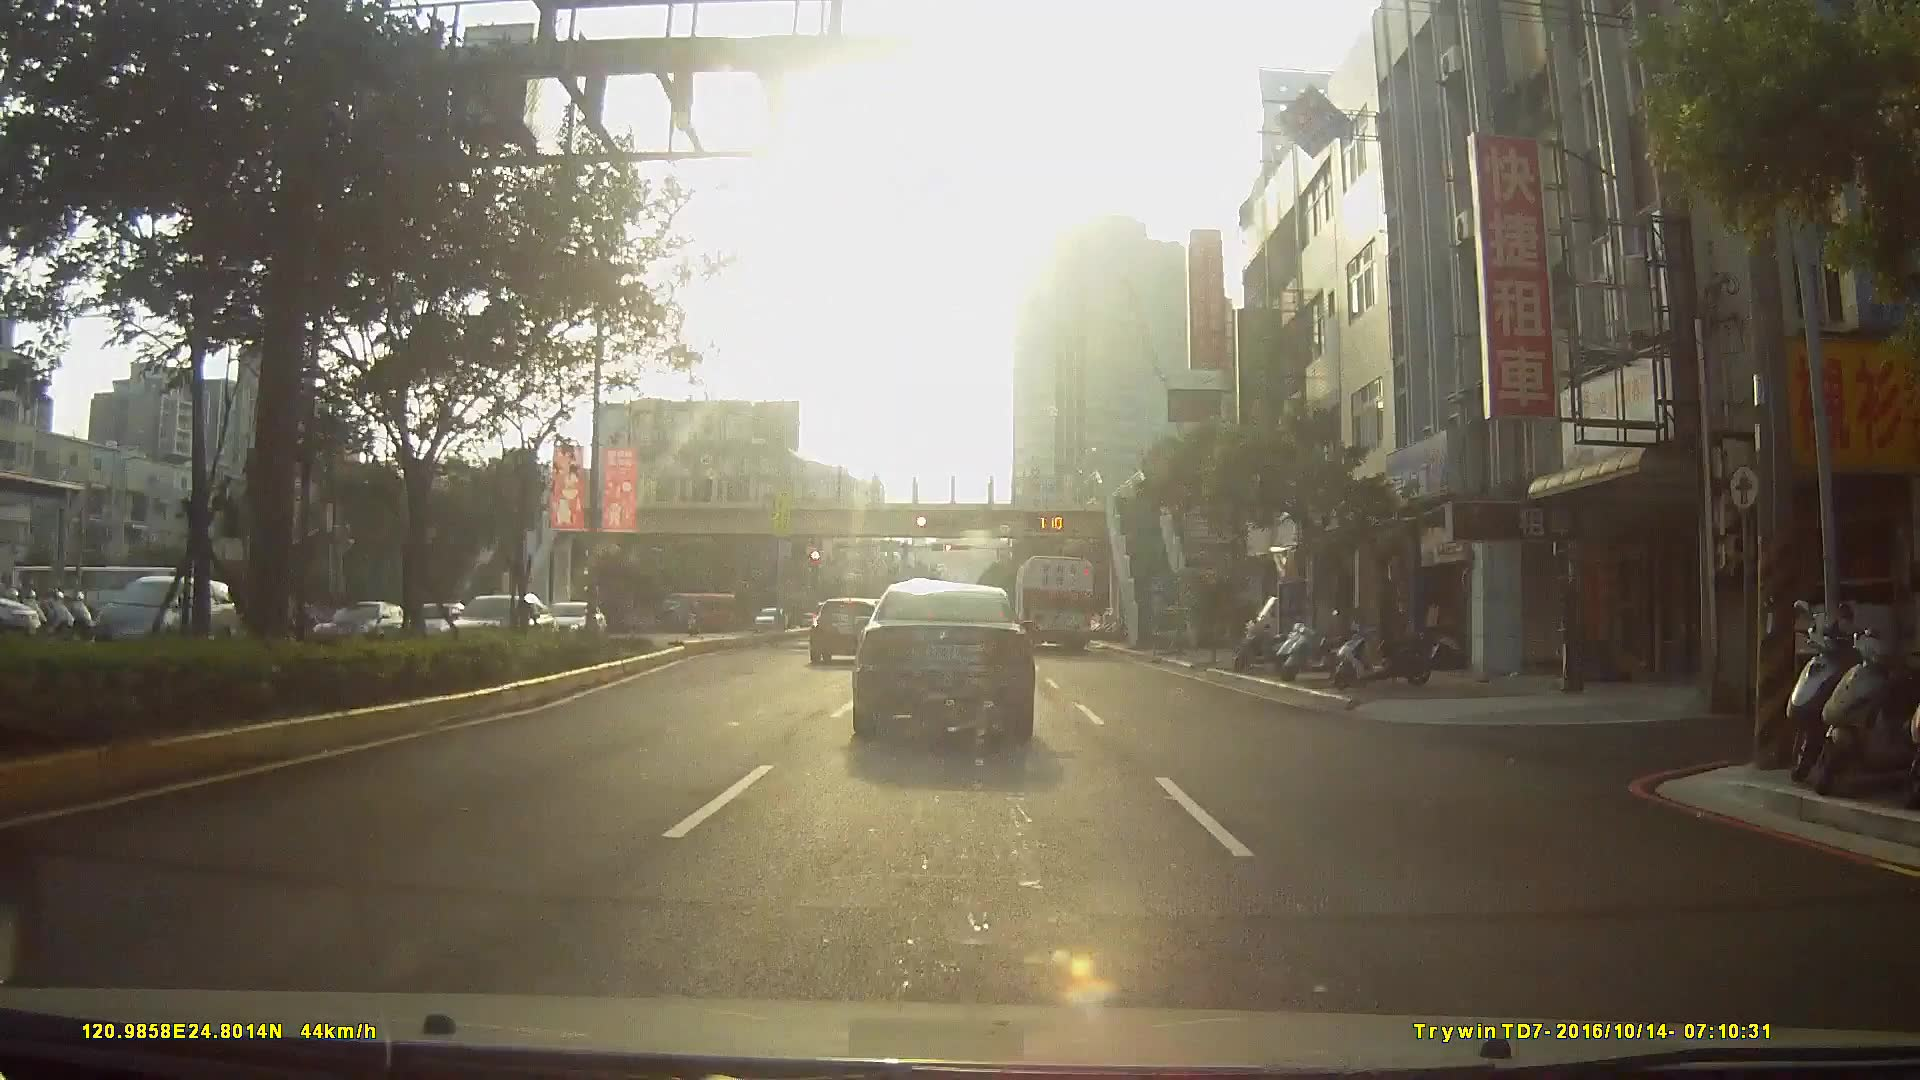vehicle: (851, 582, 1036, 738), (82, 574, 228, 657), (1011, 554, 1097, 653), (806, 597, 880, 669), (748, 607, 790, 634)
